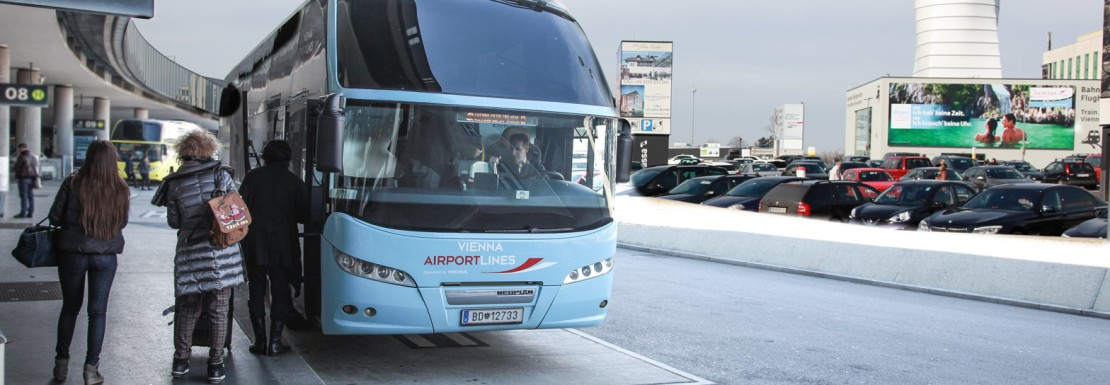bus: (193, 2, 646, 340), (105, 100, 199, 194)
car: (932, 177, 1108, 247), (852, 176, 977, 236), (753, 170, 867, 222), (831, 154, 907, 201), (703, 169, 785, 211), (658, 169, 744, 203), (1039, 152, 1096, 189)
